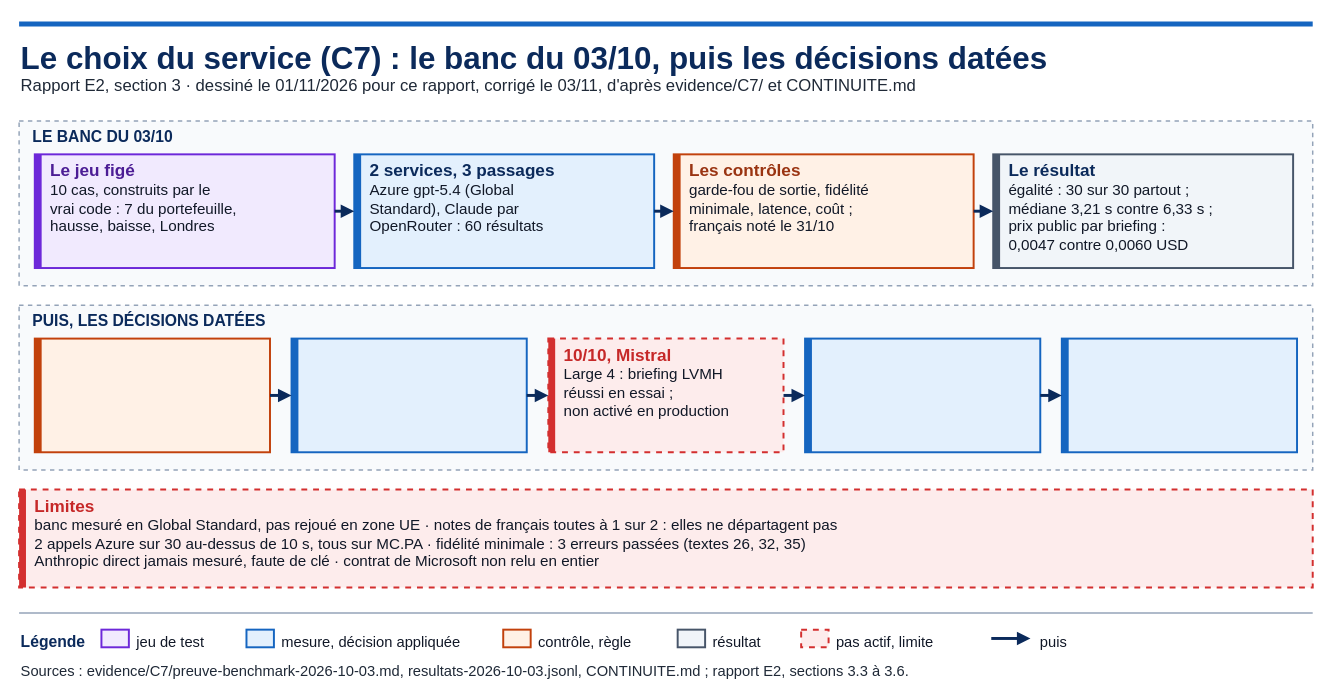
Image size: 1332x698. Some labels were removed from this diagram. The centre of each missing label's shape, as x and y in pixels:
"05/10, règle UE aucune donnée personnelle hors de l'Union européenne" goes at point (151, 395).
"09/10, zone UE gpt-5.4-dzs-eu ; 3 appels réels, Sweden Central" goes at point (408, 395).
"11/10, poste Azure seul sur le poste ; Claude plus appelé" goes at point (922, 395).
"31/10, production Azure seul, défaut du code ; conteneur relu le 31/10" goes at point (1179, 395).
